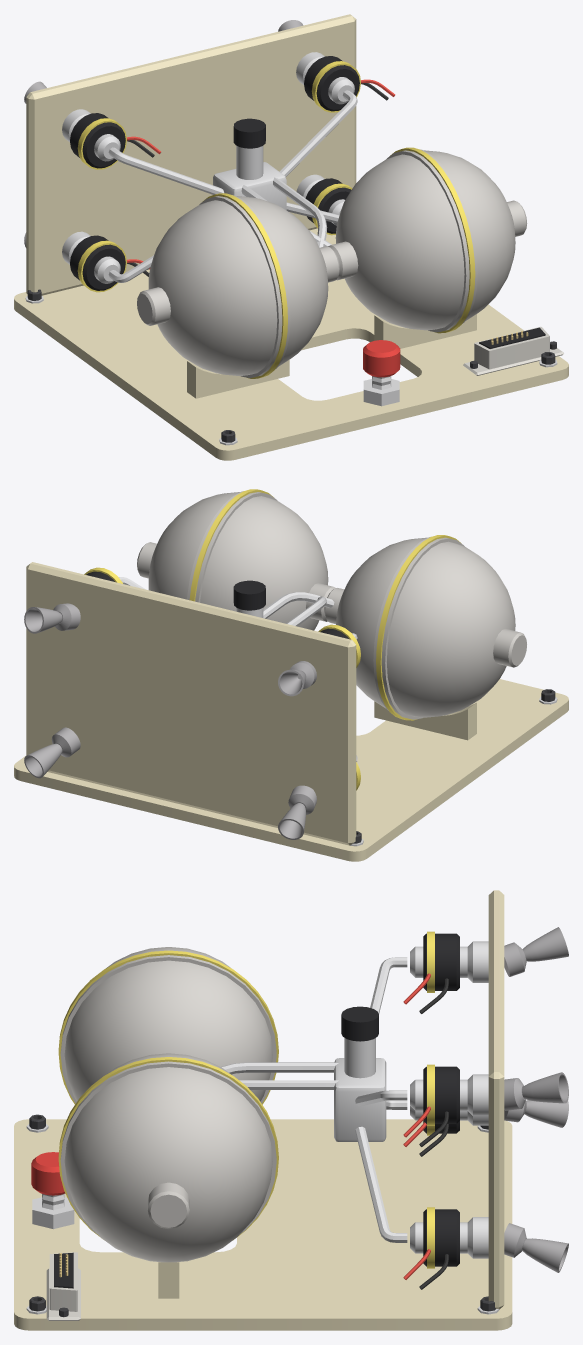
File: cold_gas_module.glb
3 renders of one model, top to bottom at view 1: azimuth 30°, elevation 25°; view 2: azimuth 150°, elevation 25°; view 3: azimuth 270°, elevation 25°, orthographic. The views are drawn at different scales.
Visible parts, largest first — view 1: cold_gas_module; view 2: cold_gas_module; view 3: cold_gas_module.
Boxes of the visible parts, bbox=[...] form: cold_gas_module: bbox=[14, 14, 568, 460]; cold_gas_module: bbox=[14, 489, 568, 861]; cold_gas_module: bbox=[14, 890, 568, 1330].
Bounding box in the file's own units: 0.096 × 0.0525 × 0.1058.
